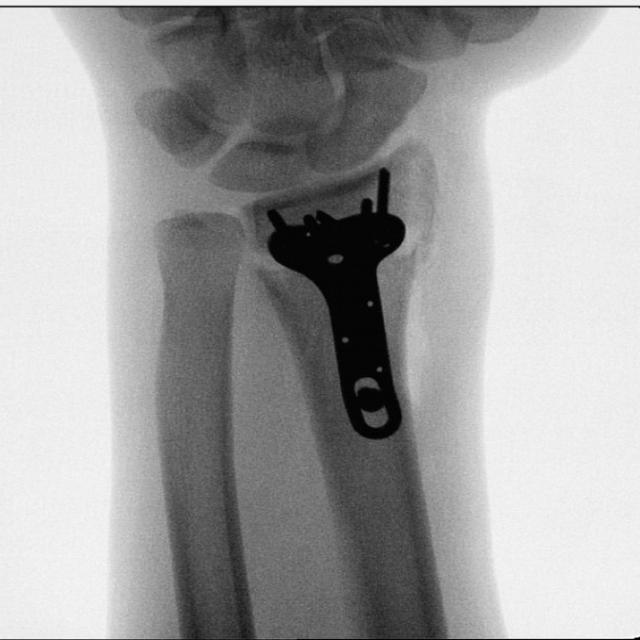x-ray: (245, 161, 424, 455)
